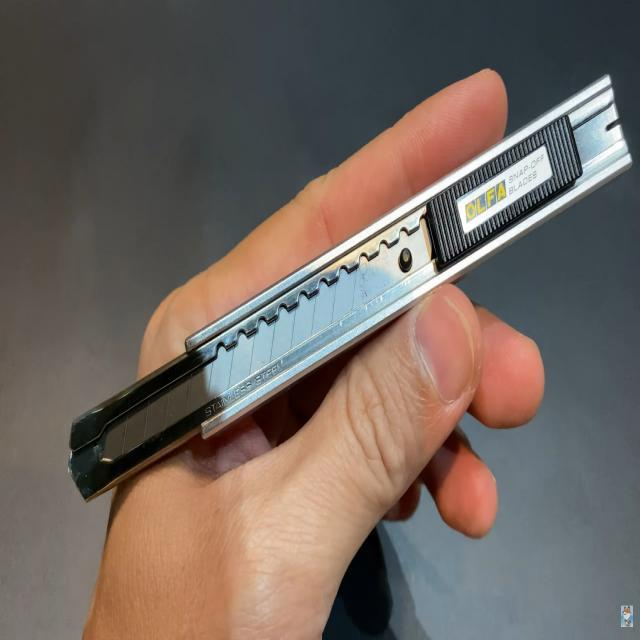cutter: (45, 39, 640, 640)
